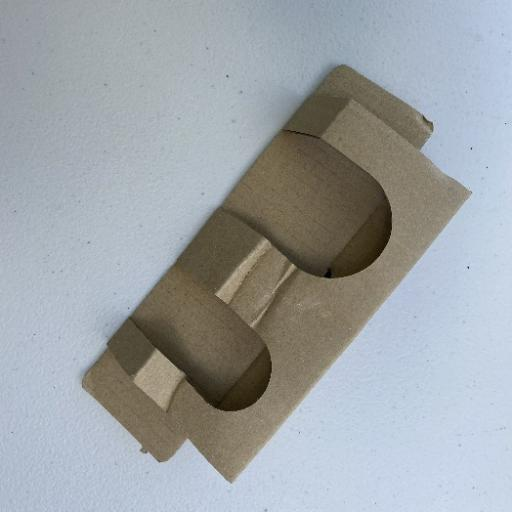Cardboard: (79, 62, 473, 484)
